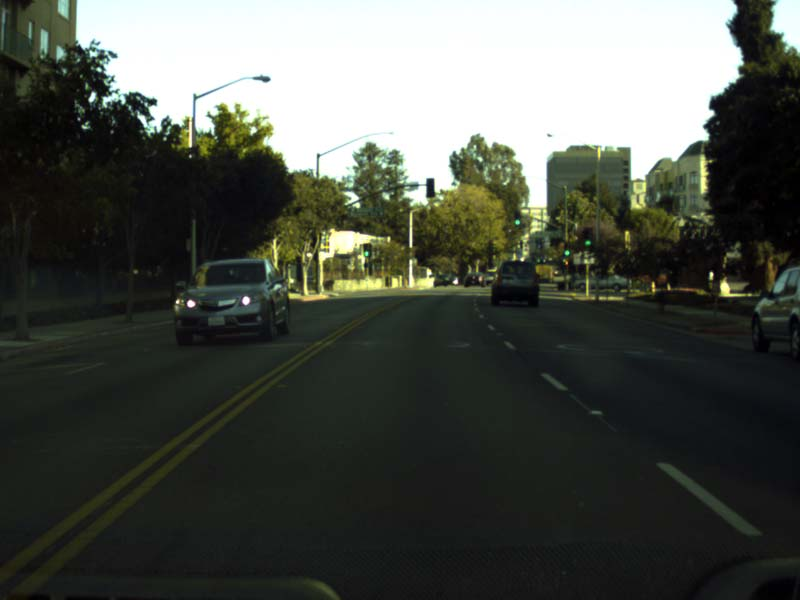Green: (583, 228, 591, 247), (363, 243, 370, 257), (514, 212, 520, 226), (564, 242, 569, 257)
